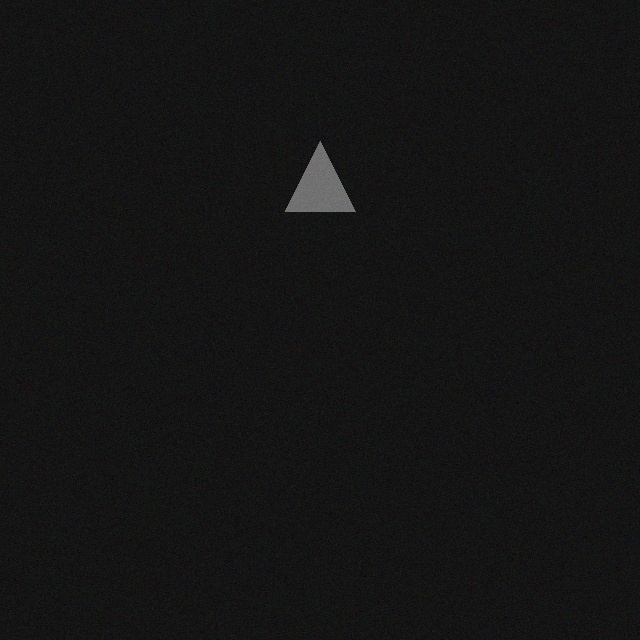triangle: (283, 148, 353, 218)
